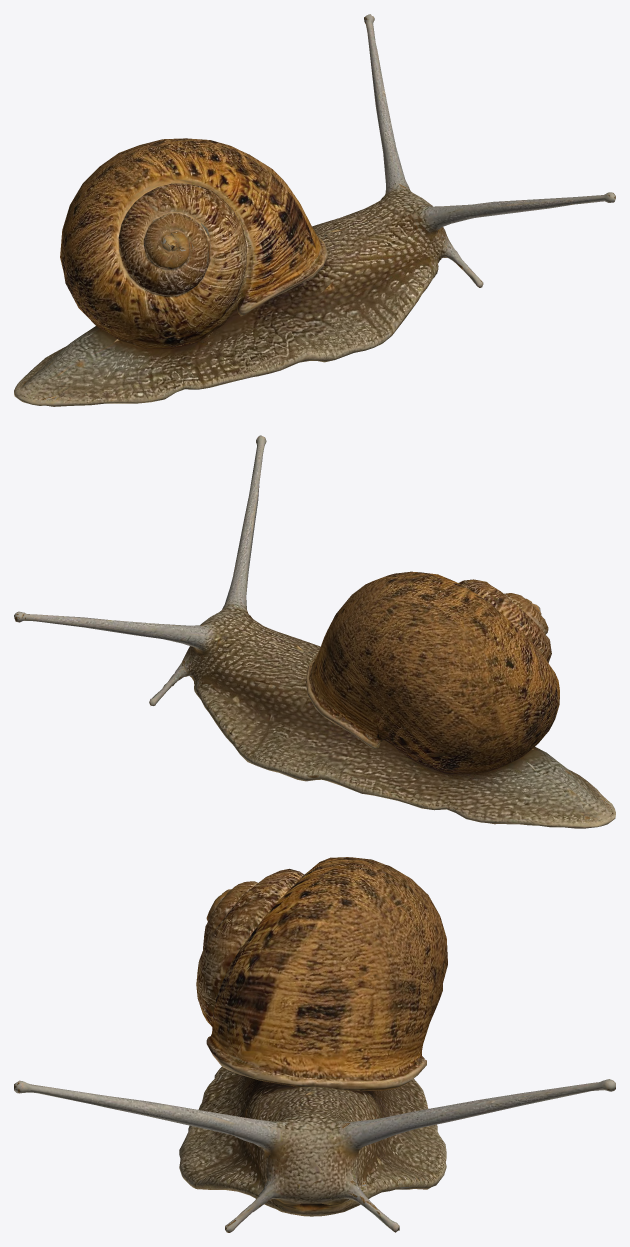
File: close.glb
3 renders of one model, top to bottom at view 1: azimuth 30°, elevation 25°; view 2: azimuth 150°, elevation 25°; view 3: azimuth 270°, elevation 25°, orthographic. The views are drawn at different scales.
Parts seen in each view (by area): view 1: tripo_node_d878a320-d221-4aa3-b615-f7d37db4c666; view 2: tripo_node_d878a320-d221-4aa3-b615-f7d37db4c666; view 3: tripo_node_d878a320-d221-4aa3-b615-f7d37db4c666.
Boxes of the visible parts, <box> form: tripo_node_d878a320-d221-4aa3-b615-f7d37db4c666: <box>14,14,615,406</box>; tripo_node_d878a320-d221-4aa3-b615-f7d37db4c666: <box>14,435,615,828</box>; tripo_node_d878a320-d221-4aa3-b615-f7d37db4c666: <box>14,857,615,1232</box>.
Size of the model in its own units: 0.34 by 0.1404 by 0.3054.
Materials: 1 (1 with a texture image).
